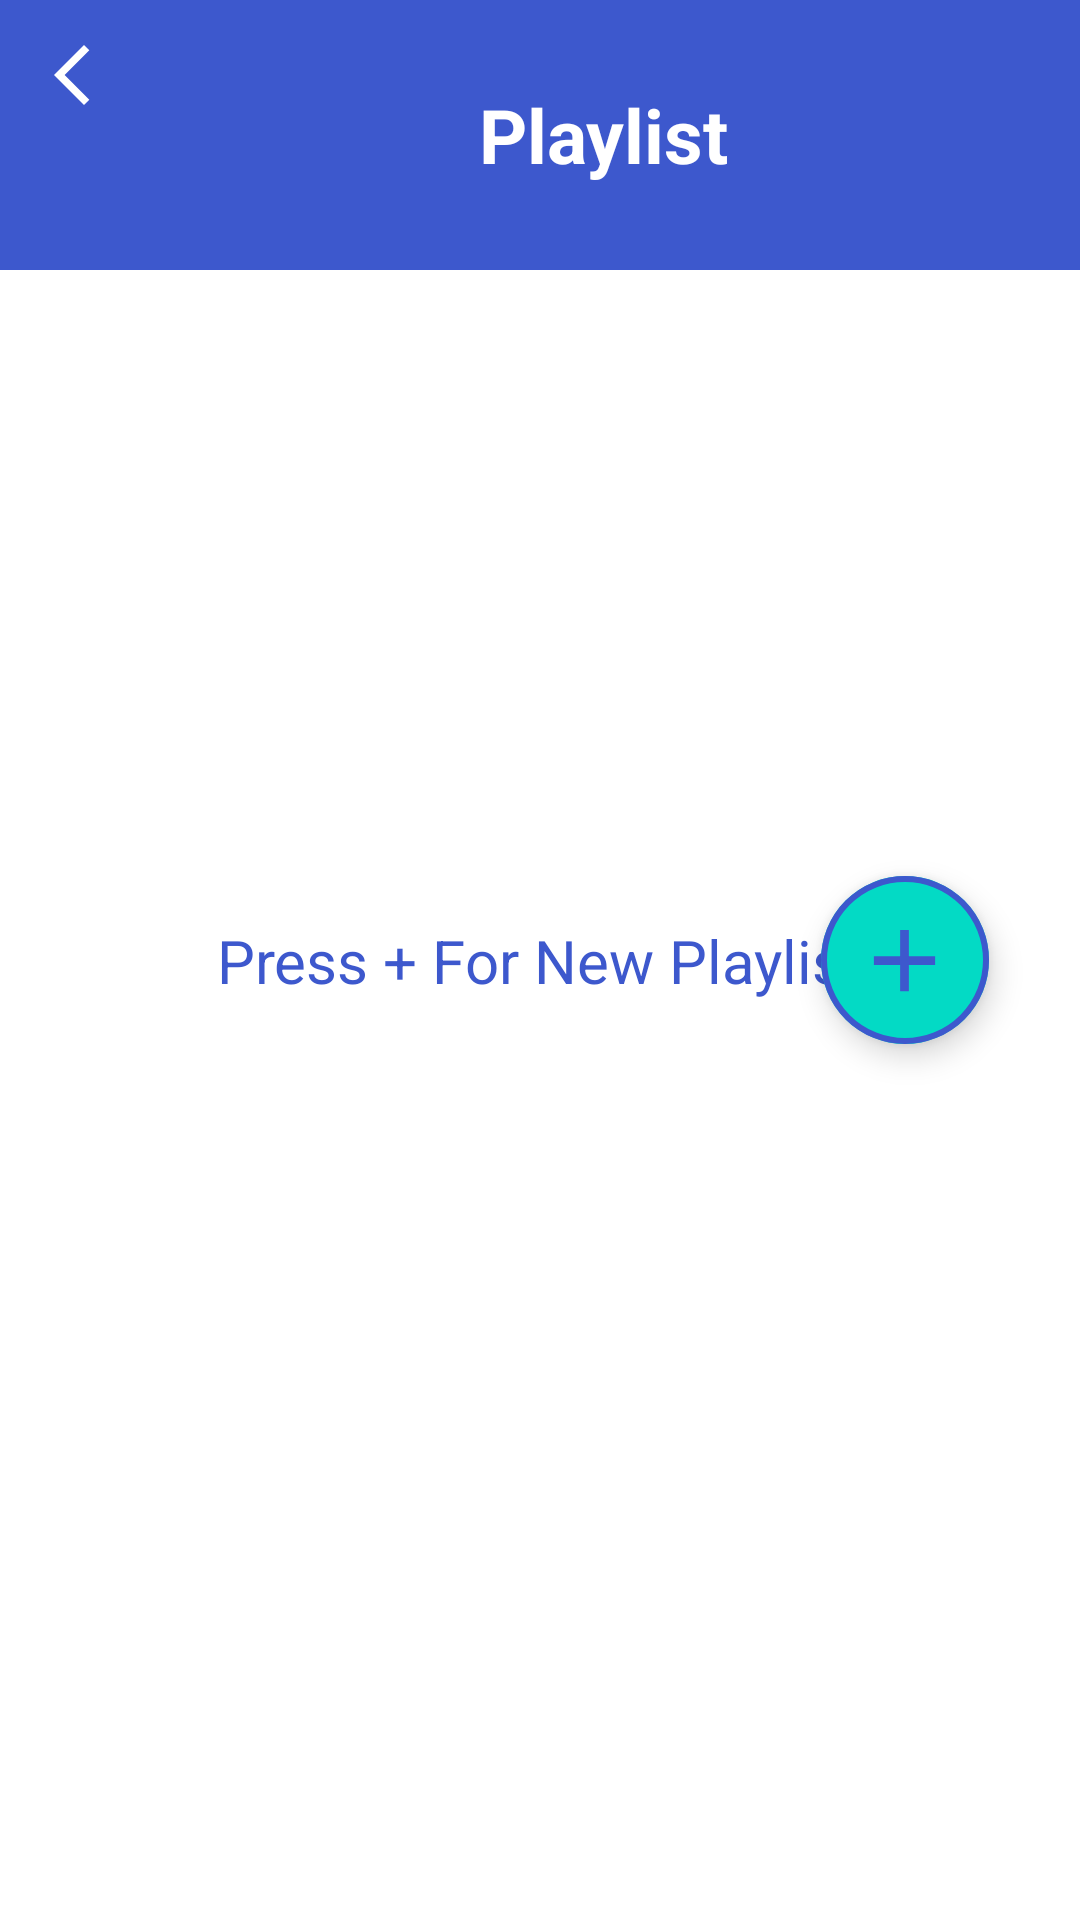

Screen size 1080w x 1920h. Icon name, then its box in pixels as (x1, y1, x2, y2):
add: (821, 876, 989, 1044)
arrow back: (54, 45, 89, 105)
